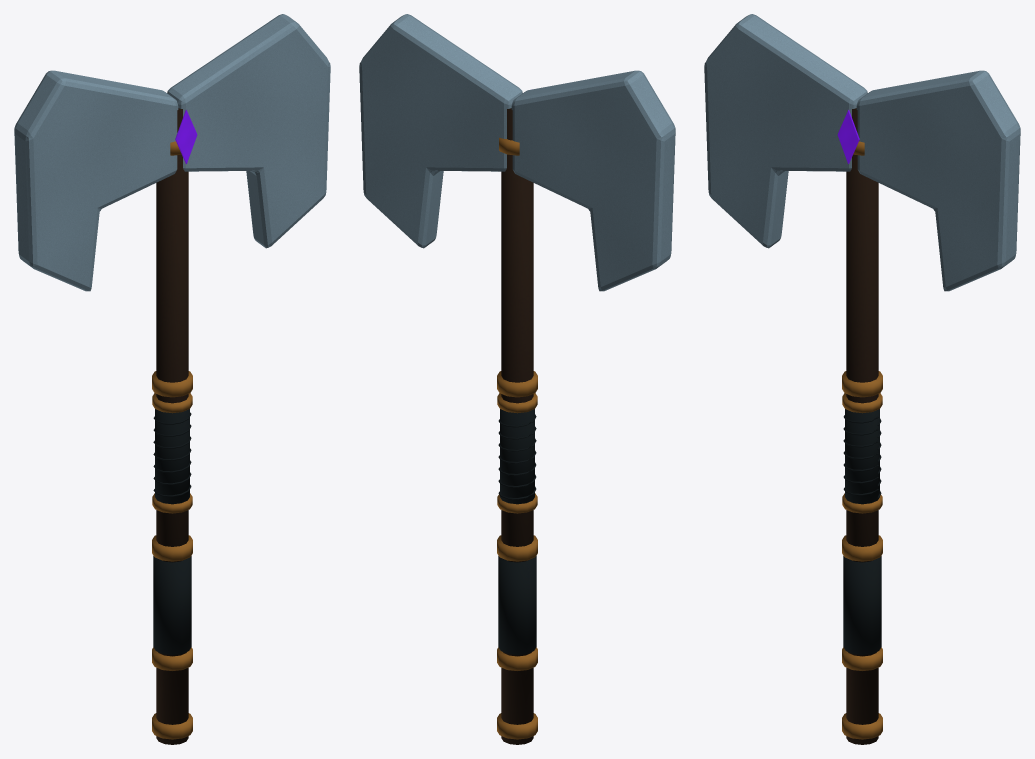
The model's file is Heavy_WarAxe.fbx.
The picture shows the model from 3 angles, left to right: view 1: azimuth 30°, elevation 25°; view 2: azimuth 150°, elevation 25°; view 3: azimuth 330°, elevation 25°; orthographic projection.
Visible parts, largest first — view 1: Heavy_WarAxe_Steel, Heavy_WarAxe_Wood, Heavy_WarAxe_Leather, Heavy_WarAxe_Gold, Heavy_WarAxe_Violet; view 2: Heavy_WarAxe_Steel, Heavy_WarAxe_Wood, Heavy_WarAxe_Leather, Heavy_WarAxe_Gold; view 3: Heavy_WarAxe_Steel, Heavy_WarAxe_Wood, Heavy_WarAxe_Leather, Heavy_WarAxe_Gold, Heavy_WarAxe_Violet.
Boxes of the visible parts, <box> form: Heavy_WarAxe_Steel: <box>14,14,330,291</box>; Heavy_WarAxe_Wood: <box>156,108,188,744</box>; Heavy_WarAxe_Leather: <box>153,409,191,654</box>; Heavy_WarAxe_Gold: <box>152,141,192,739</box>; Heavy_WarAxe_Violet: <box>175,110,197,163</box>; Heavy_WarAxe_Steel: <box>359,14,675,291</box>; Heavy_WarAxe_Wood: <box>501,108,533,744</box>; Heavy_WarAxe_Leather: <box>498,409,536,654</box>; Heavy_WarAxe_Gold: <box>497,137,537,739</box>; Heavy_WarAxe_Steel: <box>704,14,1020,291</box>; Heavy_WarAxe_Wood: <box>846,108,878,744</box>; Heavy_WarAxe_Leather: <box>843,409,881,654</box>; Heavy_WarAxe_Gold: <box>842,141,882,739</box>; Heavy_WarAxe_Violet: <box>837,110,859,163</box>.
Bounding box in the file's own units: 0.6992 × 1.52 × 0.098.
